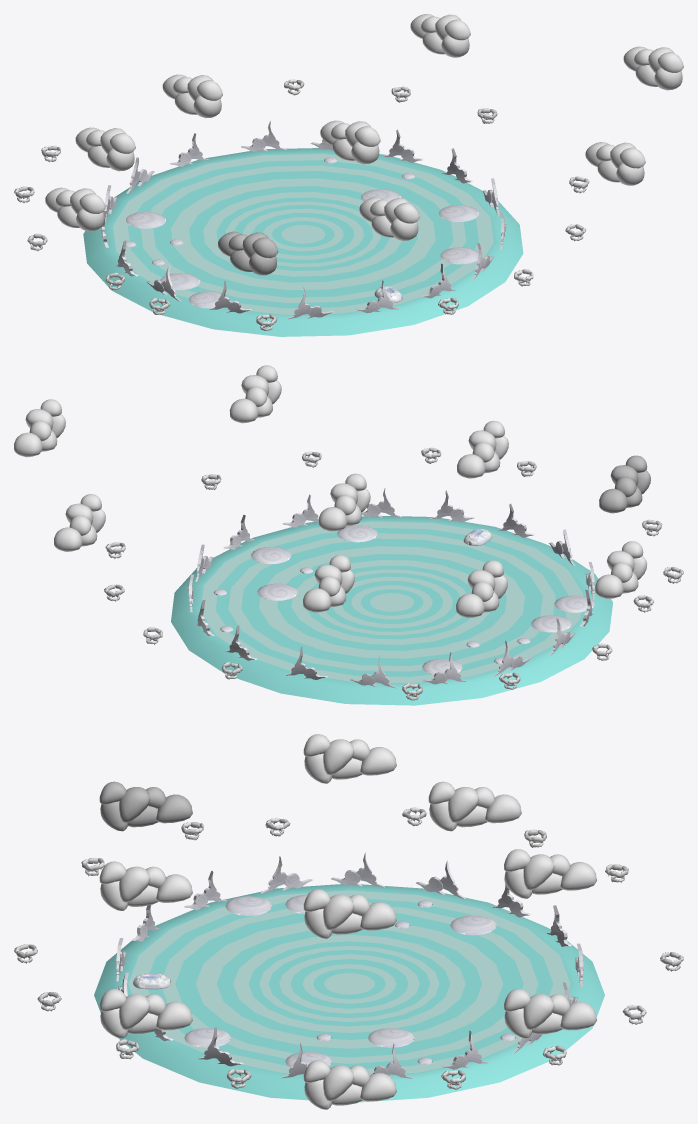
Rendered from Nubes.fbx.
The picture shows the model from 3 angles, top to bottom: view 1: azimuth 30°, elevation 25°; view 2: azimuth 150°, elevation 25°; view 3: azimuth 270°, elevation 25°; orthographic projection. The views are drawn at different scales.
Parts seen in each view (by area): view 1: terreno, terreno1, polySurface988, polySurface982, polySurface987, polySurface981, polySurface986, polySurface980, polySurface985, polySurface984, polySurface983, polySurface966 (+13 smaller); view 2: terreno, terreno1, polySurface984, polySurface987, polySurface985, polySurface980, polySurface981, polySurface982, polySurface983, polySurface986, polySurface988, polySurface977 (+15 smaller); view 3: terreno, terreno1, polySurface981, polySurface986, polySurface987, polySurface984, polySurface988, polySurface983, polySurface985, polySurface980, polySurface982, polySurface951 (+15 smaller).
Boxes of the visible parts, <box> form: terreno: <box>83,148,523,336</box>; terreno1: <box>113,154,493,314</box>; polySurface988: <box>410,14,470,57</box>; polySurface982: <box>75,127,135,171</box>; polySurface987: <box>623,46,683,90</box>; polySurface981: <box>45,187,105,231</box>; polySurface986: <box>585,142,645,185</box>; polySurface980: <box>218,231,278,275</box>; polySurface985: <box>162,74,222,118</box>; polySurface984: <box>320,120,380,164</box>; polySurface983: <box>359,197,419,240</box>; polySurface966: <box>256,287,333,330</box>; terreno: <box>171,515,612,705</box>; terreno1: <box>201,521,583,683</box>; polySurface984: <box>318,473,370,531</box>; polySurface987: <box>14,399,65,457</box>; polySurface985: <box>303,555,354,612</box>; polySurface980: <box>599,455,650,513</box>; polySurface981: <box>595,541,647,598</box>; polySurface982: <box>456,560,507,618</box>; polySurface983: <box>457,420,508,478</box>; polySurface986: <box>229,365,281,423</box>; polySurface988: <box>54,494,105,551</box>; polySurface977: <box>350,656,422,700</box>; terreno: <box>94,884,604,1102</box>; terreno1: <box>128,890,570,1074</box>; polySurface981: <box>303,734,396,783</box>; polySurface986: <box>99,989,192,1038</box>; polySurface987: <box>303,1060,396,1109</box>; polySurface984: <box>303,889,396,938</box>; polySurface988: <box>504,989,596,1038</box>; polySurface983: <box>99,861,192,910</box>; polySurface985: <box>504,849,596,898</box>; polySurface980: <box>99,781,192,831</box>; polySurface982: <box>428,781,521,831</box>; polySurface951: <box>261,817,312,893</box>.
Size of the model in its own units: 5435 by 967 by 4439.
